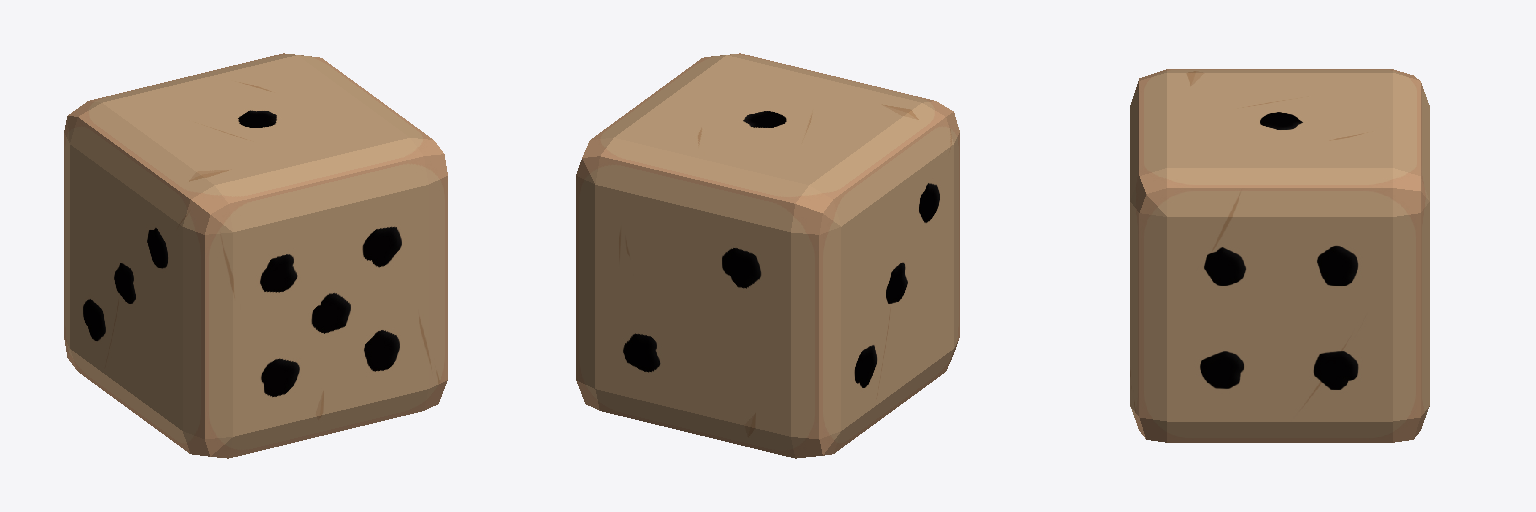
3 renders of one model, left to right at view 1: azimuth 30°, elevation 25°; view 2: azimuth 150°, elevation 25°; view 3: azimuth 270°, elevation 25°, orthographic.
Parts seen in each view (by area): view 1: DICE; view 2: DICE; view 3: DICE.
Boxes of the visible parts, x1=… form: DICE: x1=64, y1=53, x2=447, y2=458; DICE: x1=576, y1=53, x2=959, y2=458; DICE: x1=1130, y1=69, x2=1429, y2=442.
Size of the model in its own units: 80 by 80 by 80.
Materials: 1 (1 with a texture image).